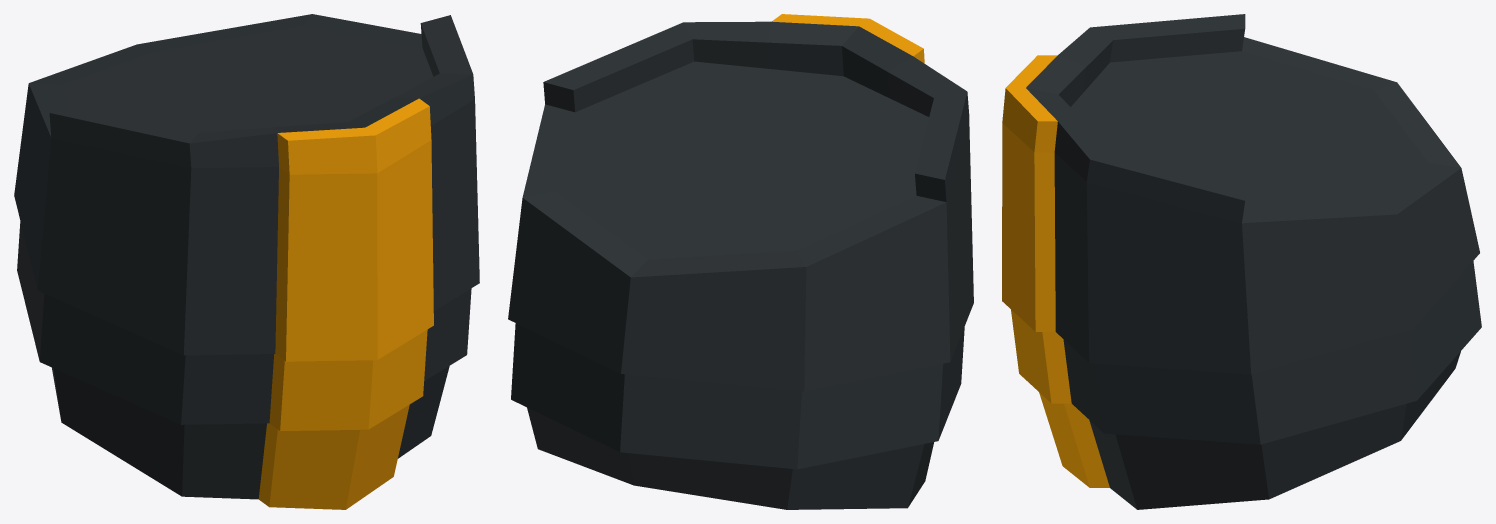
File: goblin_armor.fbx
The picture shows the model from 3 angles, left to right: view 1: azimuth 30°, elevation 25°; view 2: azimuth 150°, elevation 25°; view 3: azimuth 270°, elevation 25°; orthographic projection. The views are drawn at different scales.
Parts seen in each view (by area): view 1: goblin_armor; view 2: goblin_armor; view 3: goblin_armor.
Boxes of the visible parts, bbox=[...] form: goblin_armor: bbox=[14, 14, 479, 509]; goblin_armor: bbox=[508, 14, 973, 509]; goblin_armor: bbox=[1002, 14, 1481, 509].
Size of the model in its own units: 215 by 195 by 224.
1 material, 1 textured.
